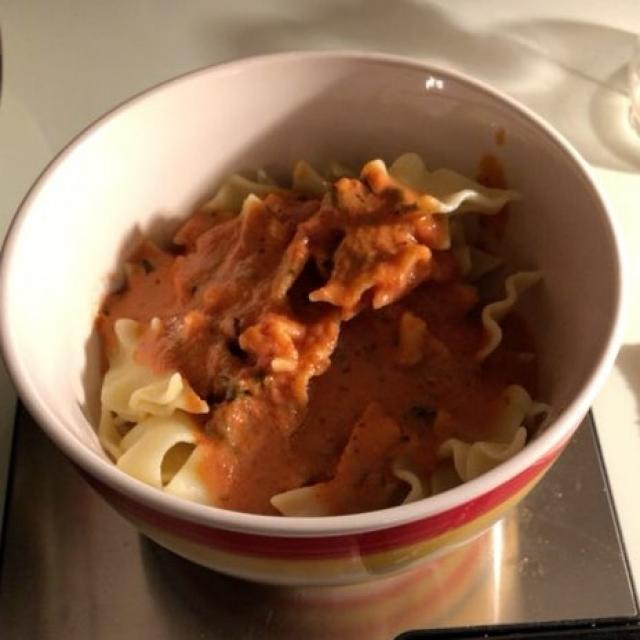pasta: (97, 159, 537, 504)
tomato-sauce: (74, 136, 476, 499)
